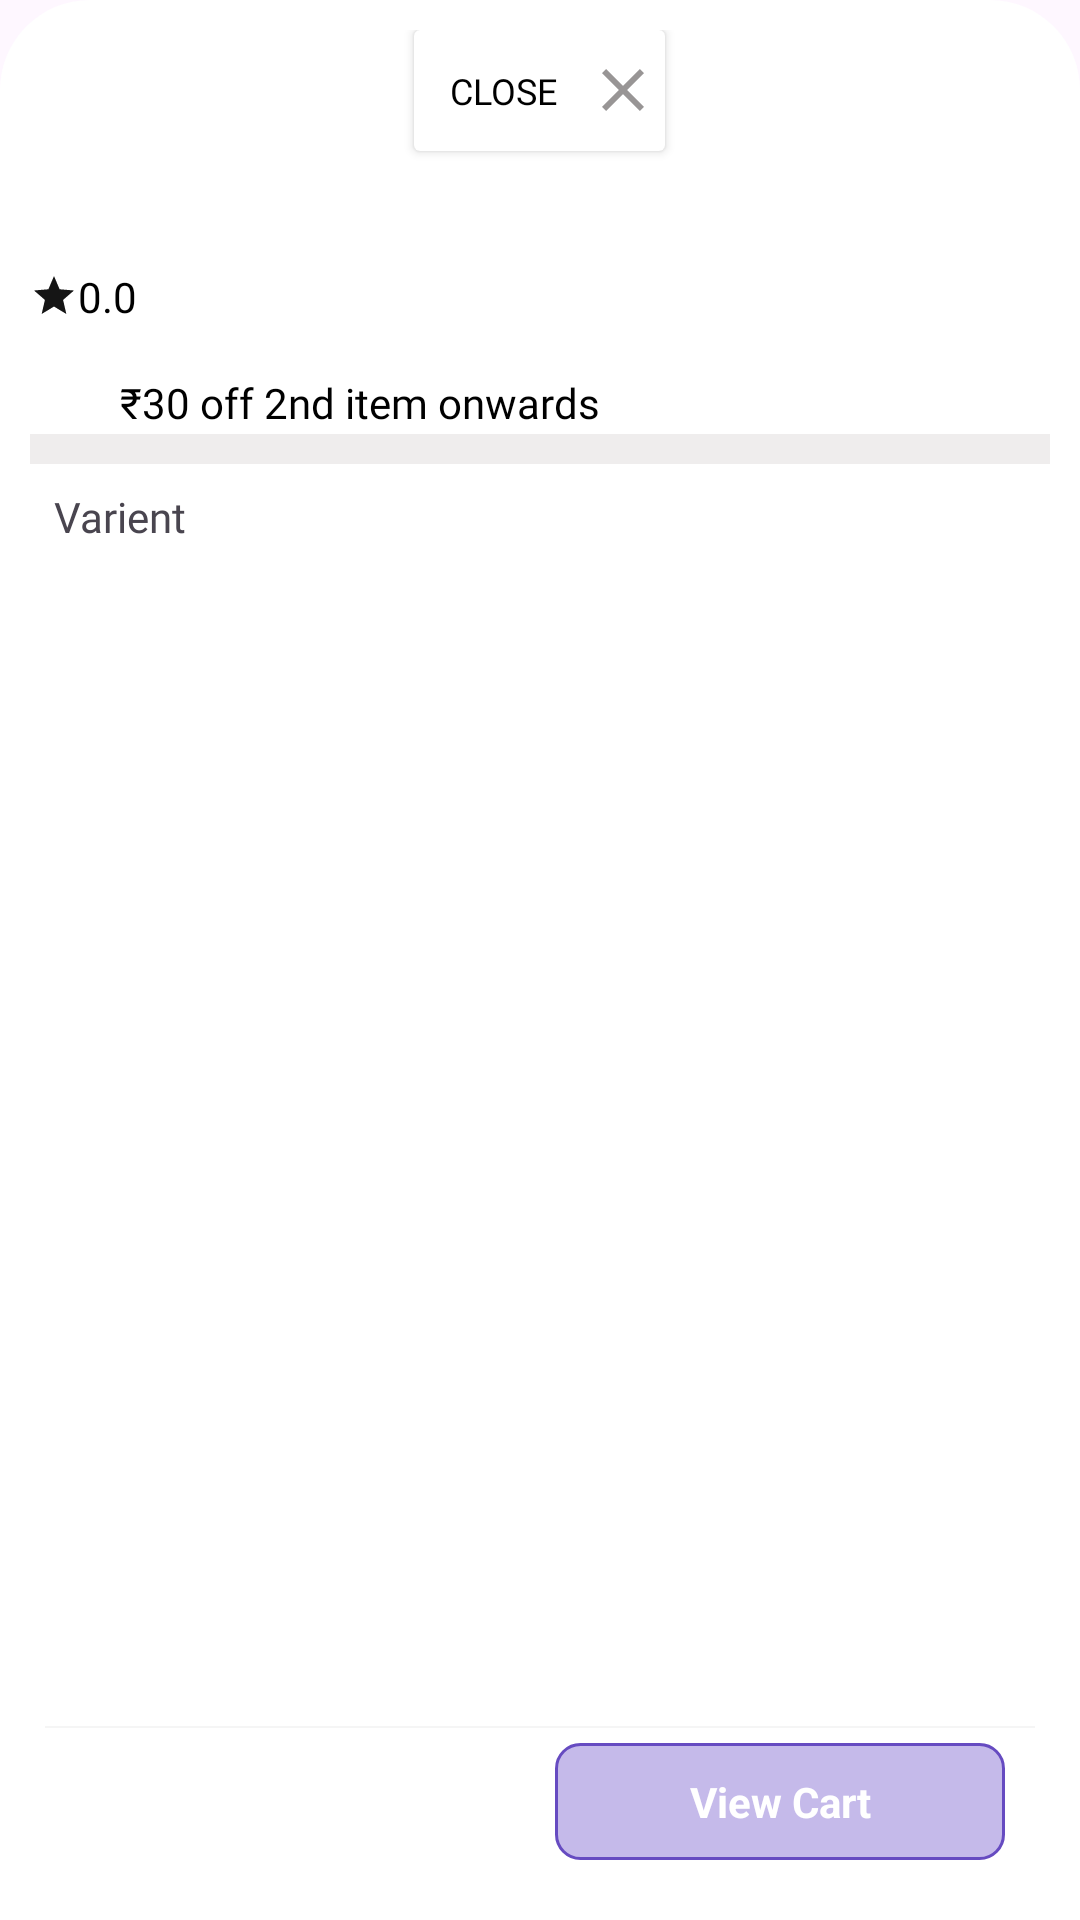

Screen size 1080×1920. Icon name, then its center in pixels as [x,y]:
star rating: [54,295]
